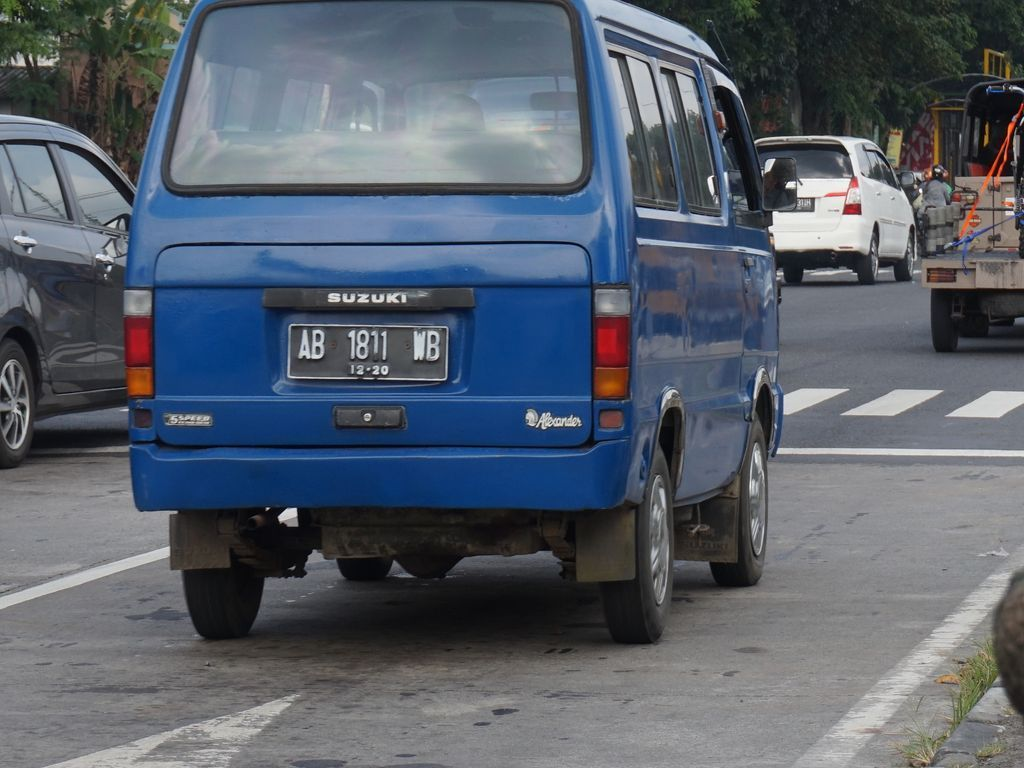plate: (294, 328, 444, 375)
